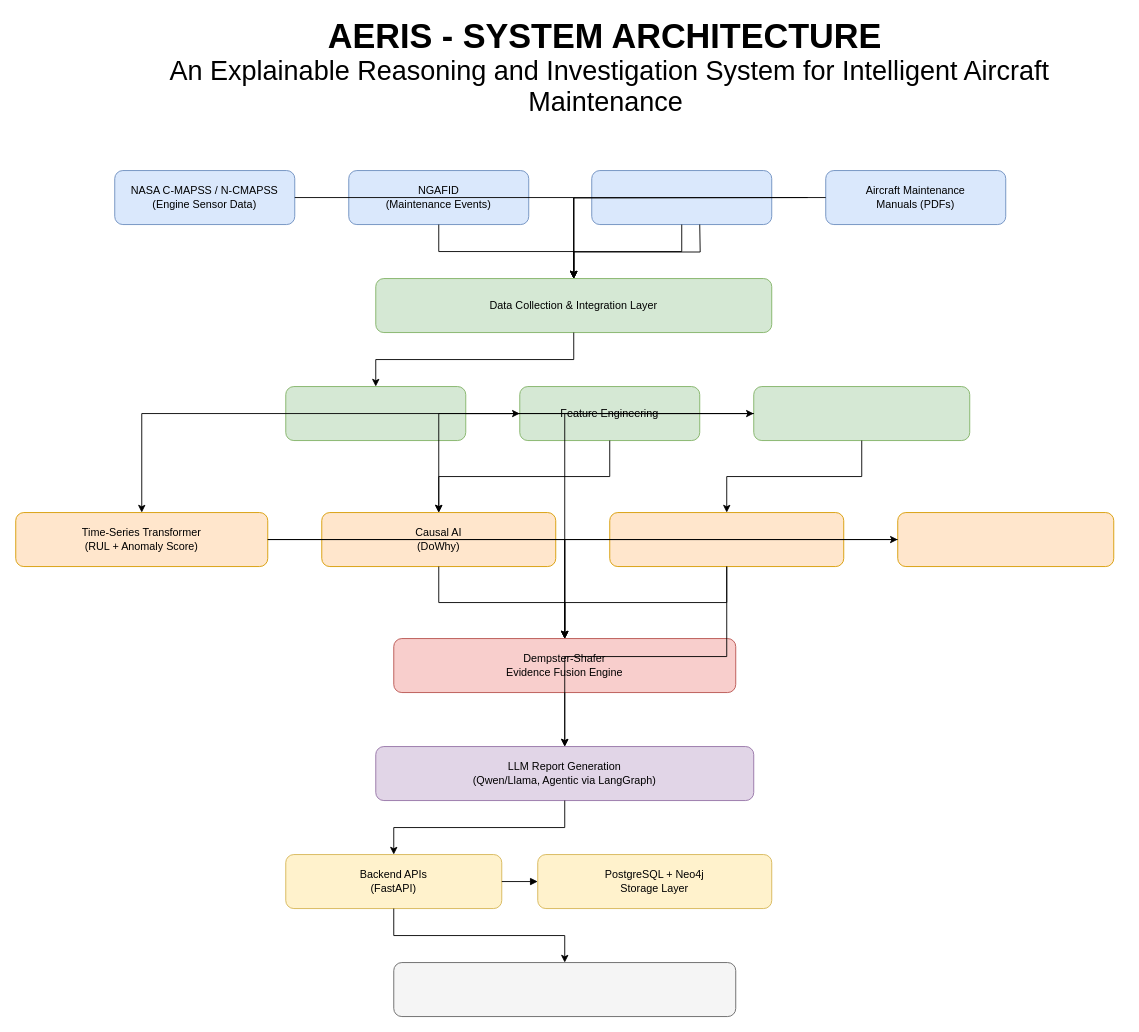
Image size: 1139x1032. Some labels were removed from this diagram. The centre of each missing label's shape, as x and y in pixels:
Data Cleaning: point 375,413
FAA SDR (Failure Reports): point 681,197
Frontend Dashboard (React + Tailwind CSS): point 564,989
Knowledge Graph Construction (Neo4j): point 861,413
RAG Pipeline (LangChain + FAISS): point 726,539
SHAP Explainability: point 1005,539
